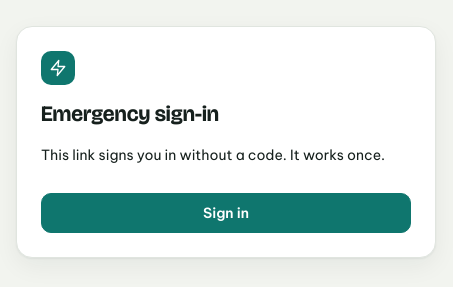
Scenario: the answers (R45) › rate_limited shows the wait in whole minutes, keeps the token, and a later press sends one request
Later steps or results of the test are not shown.
Click the button "Sign in". click: [226, 213]
box: [41,193,411,233]
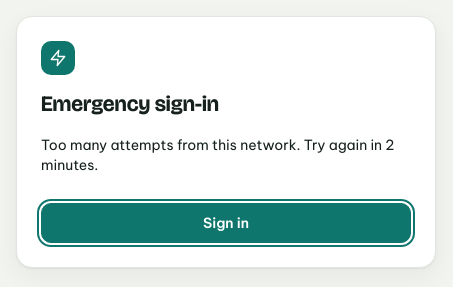
Check: the text "Too many attempts from this network. Try again in 2 minutes." is shown, box [41,135,411,175]
